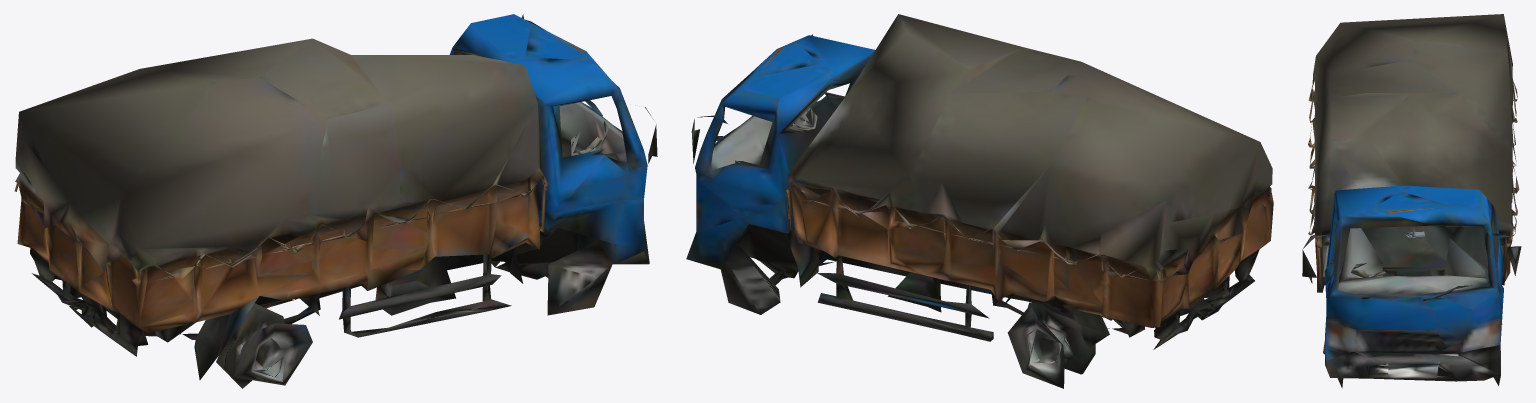
The model's file is lorry_2.glb.
The picture shows the model from 3 angles, left to right: view 1: azimuth 30°, elevation 25°; view 2: azimuth 150°, elevation 25°; view 3: azimuth 270°, elevation 25°; orthographic projection. The views are drawn at different scales.
Visible parts, largest first — view 1: tripo_node_1556af09-5893-447d-a109-733878e42172; view 2: tripo_node_1556af09-5893-447d-a109-733878e42172; view 3: tripo_node_1556af09-5893-447d-a109-733878e42172.
Part boxes in pixels (x1=…): tripo_node_1556af09-5893-447d-a109-733878e42172: x1=14, y1=14, x2=657, y2=388; tripo_node_1556af09-5893-447d-a109-733878e42172: x1=686, y1=14, x2=1273, y2=388; tripo_node_1556af09-5893-447d-a109-733878e42172: x1=1302, y1=14, x2=1521, y2=388.
Bounding box in the file's own units: 0.9966 × 0.4909 × 0.4366.
Materials: 1 (1 with a texture image).
